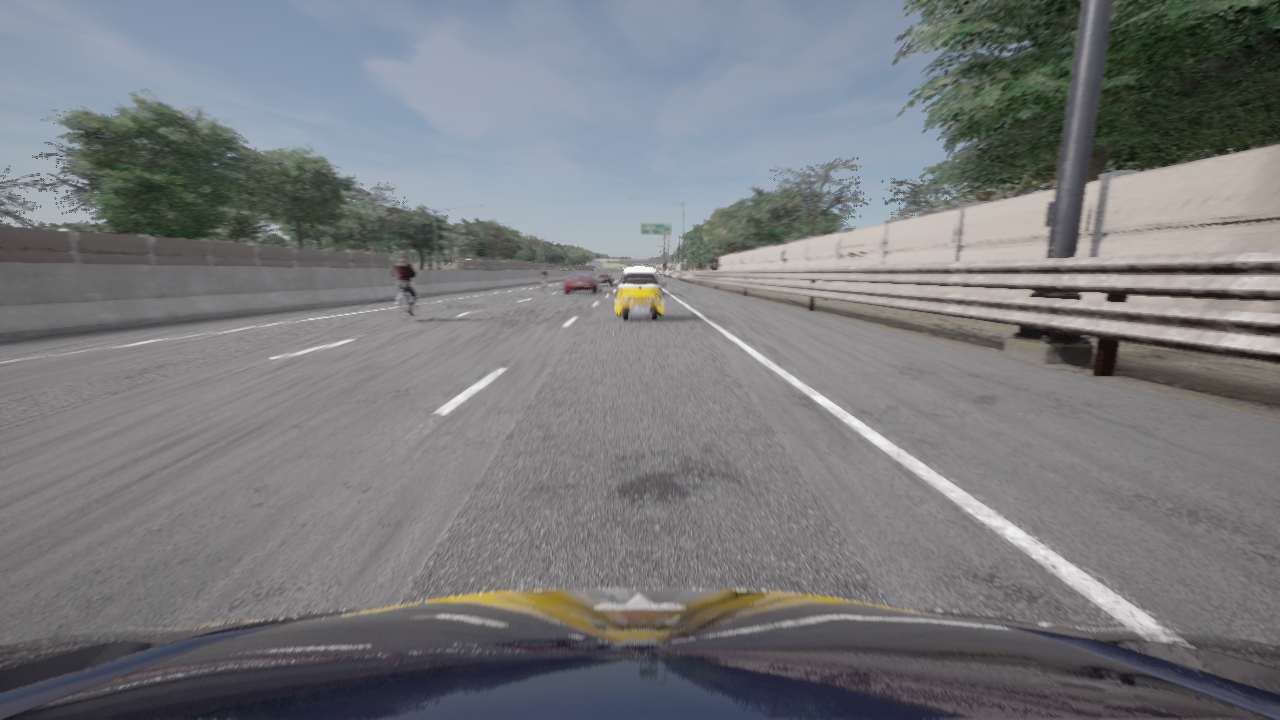cyclist: (0, 588, 1279, 719), (614, 267, 666, 321), (564, 270, 601, 293), (397, 281, 417, 321), (594, 270, 613, 285), (542, 279, 547, 289)
